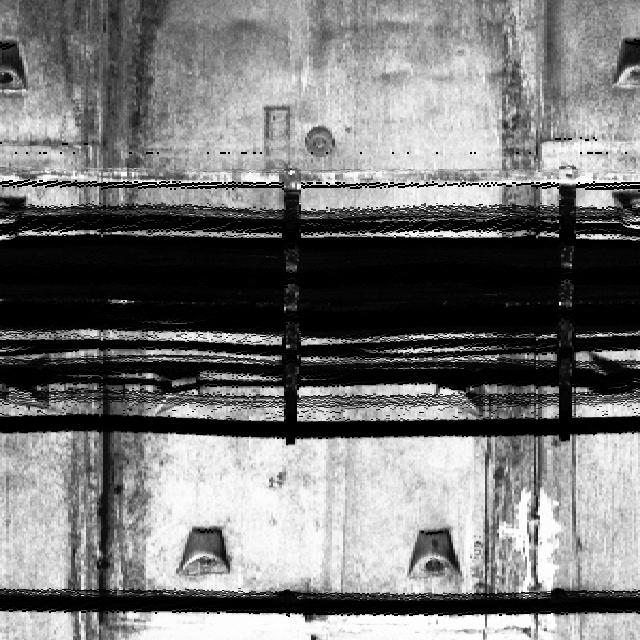leakage: (17, 0, 174, 203), (63, 341, 155, 639), (466, 370, 557, 639), (465, 3, 569, 230)
